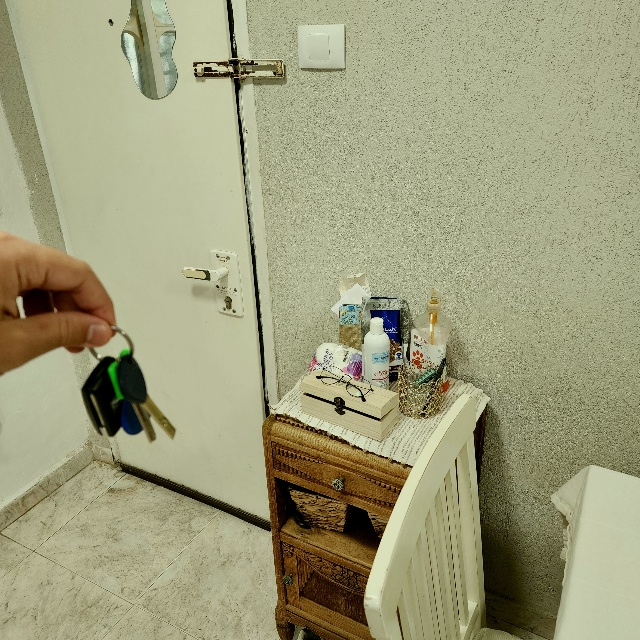glasses: (317, 365, 375, 403)
